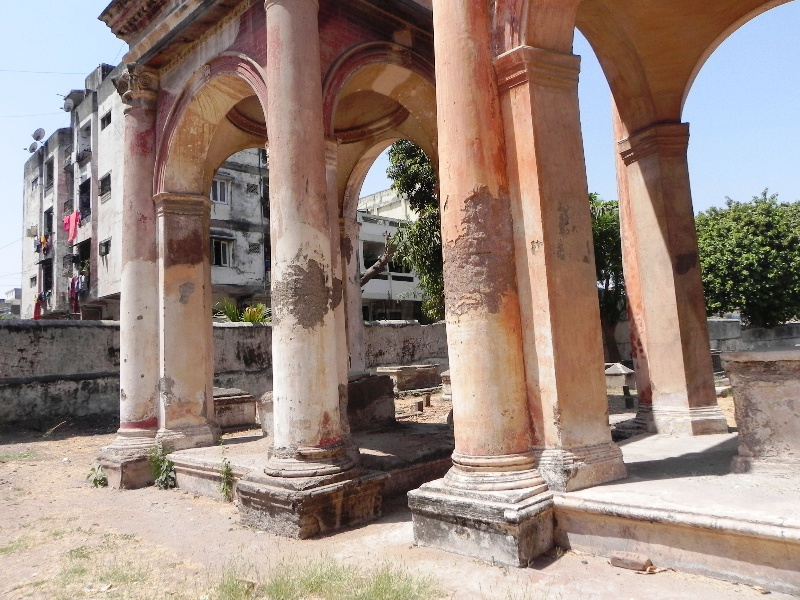Spalling: (441, 176, 516, 324), (269, 255, 344, 328), (153, 374, 178, 406), (672, 247, 699, 276), (173, 276, 199, 306)
